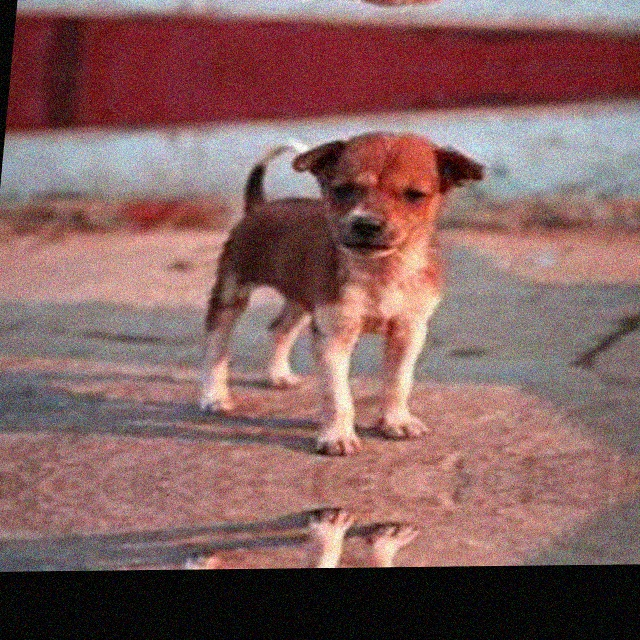dog: (118, 115, 520, 447), (106, 518, 482, 571), (157, 0, 532, 23)
